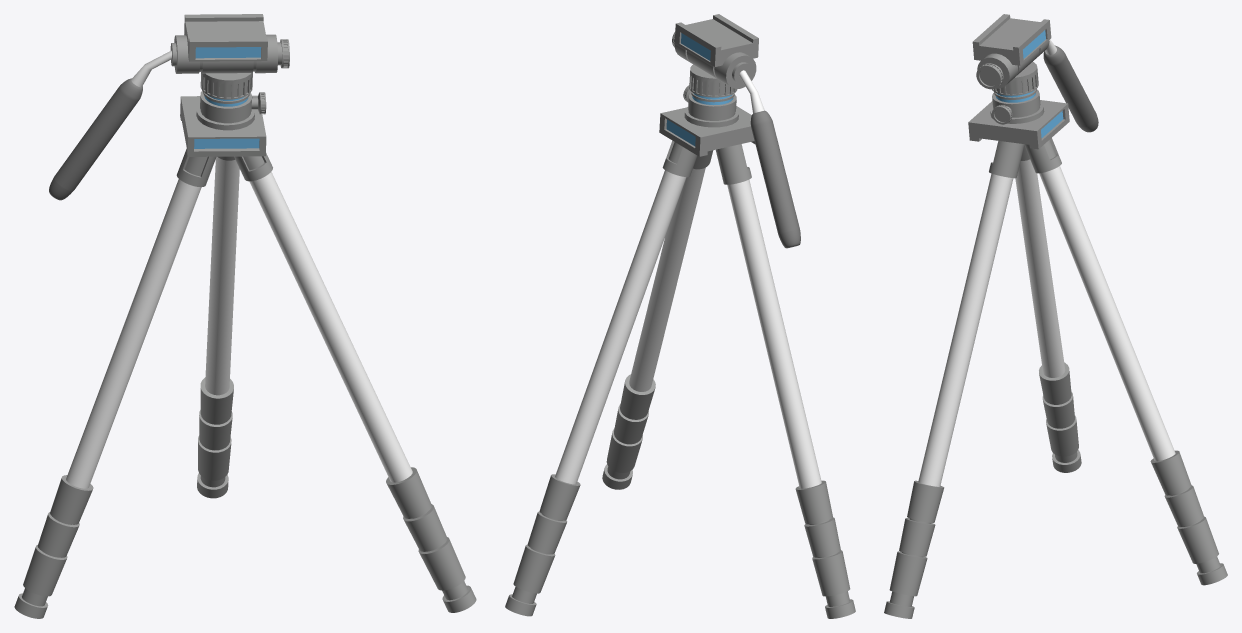
Rendered from trepied_scaledown.fbx.
3 renders of one model, left to right at view 1: azimuth 30°, elevation 25°; view 2: azimuth 150°, elevation 25°; view 3: azimuth 270°, elevation 25°, orthographic. The views are drawn at different scales.
Parts seen in each view (by area): view 1: trepied; view 2: trepied; view 3: trepied.
Boxes of the visible parts, box(x1,y1,x2,y2) form: trepied: box(14, 14, 476, 618); trepied: box(505, 14, 855, 618); trepied: box(884, 14, 1227, 618).
Size of the model in its own units: 1.01 by 0.9288 by 1.54.
